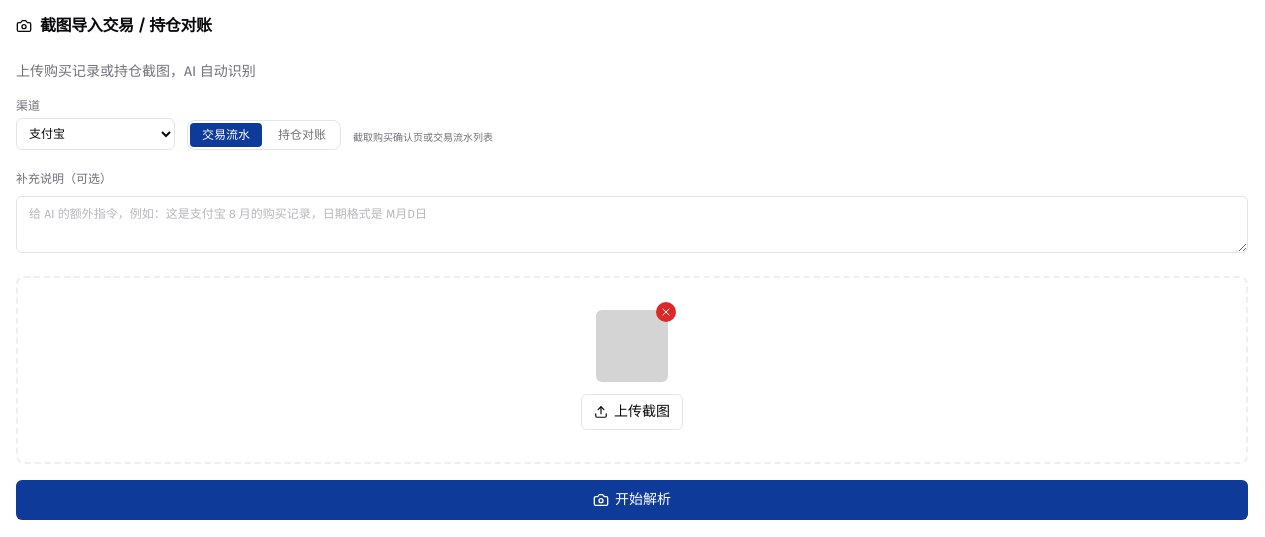
it: ScreenshotImportPanel 导入完整性校验 › 买入仅有份额无金额时仍视为不完整（与手工新增表单一致）
Earlier steps of the test are not shown.
Click the button "开始解析" at (632, 500), box [16,480,1248,520]
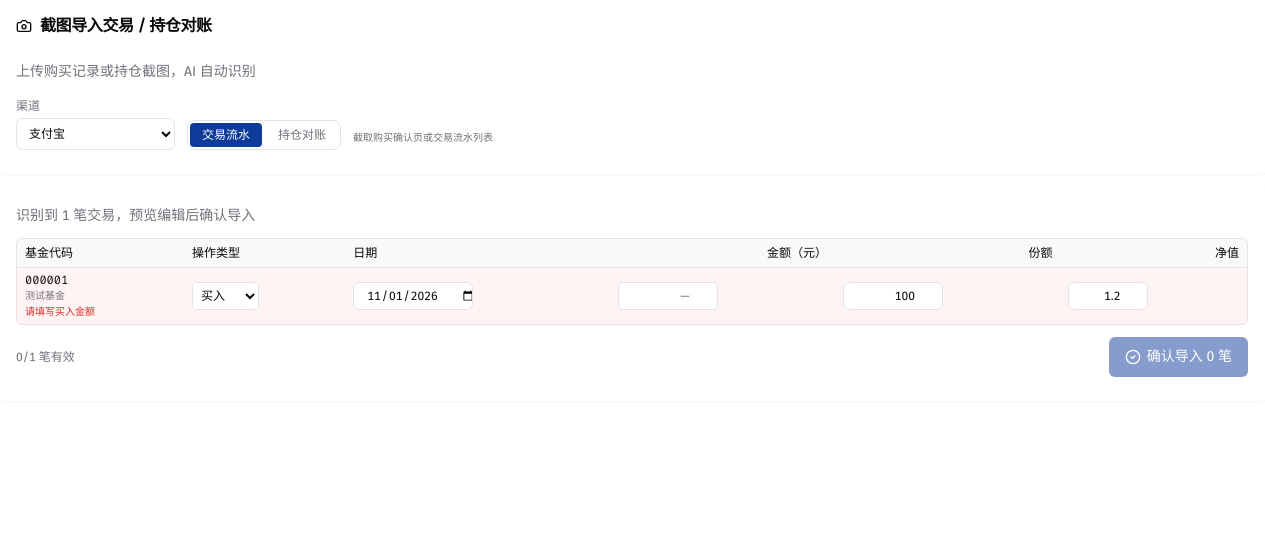
Expected: the text "识别到 1 笔交易，预览编辑后确认导入" is shown, [16,207,255,224]
Expected: the text "0/1 笔有效" is shown, [16,349,75,365]
Expected: the text "请填写买入金额" is shown, [25,306,95,318]
